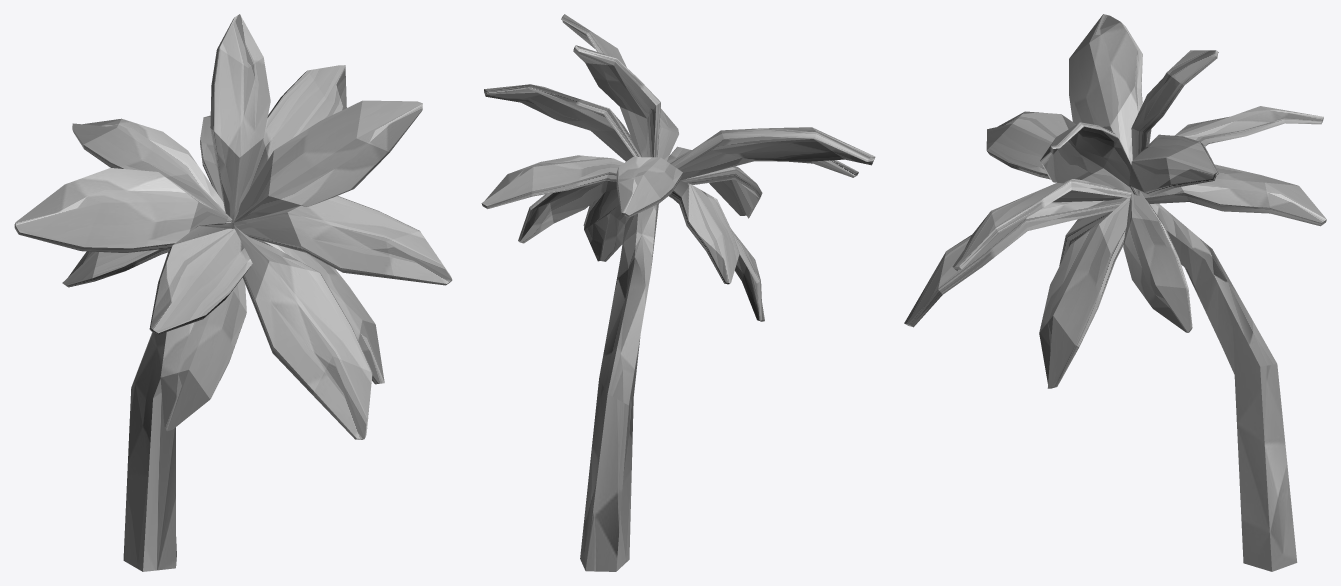
Rendered from Palm.fbx.
3 renders of one model, left to right at view 1: azimuth 30°, elevation 25°; view 2: azimuth 150°, elevation 25°; view 3: azimuth 270°, elevation 25°, orthographic. The views are drawn at different scales.
Visible parts, largest first — view 1: Palm; view 2: Palm; view 3: Palm.
Boxes of the visible parts, x1=… form: Palm: x1=14, y1=14, x2=452, y2=571; Palm: x1=481, y1=14, x2=875, y2=571; Palm: x1=904, y1=14, x2=1326, y2=571.
Bounding box in the file's own units: 2.78 × 3.8 × 2.71.
